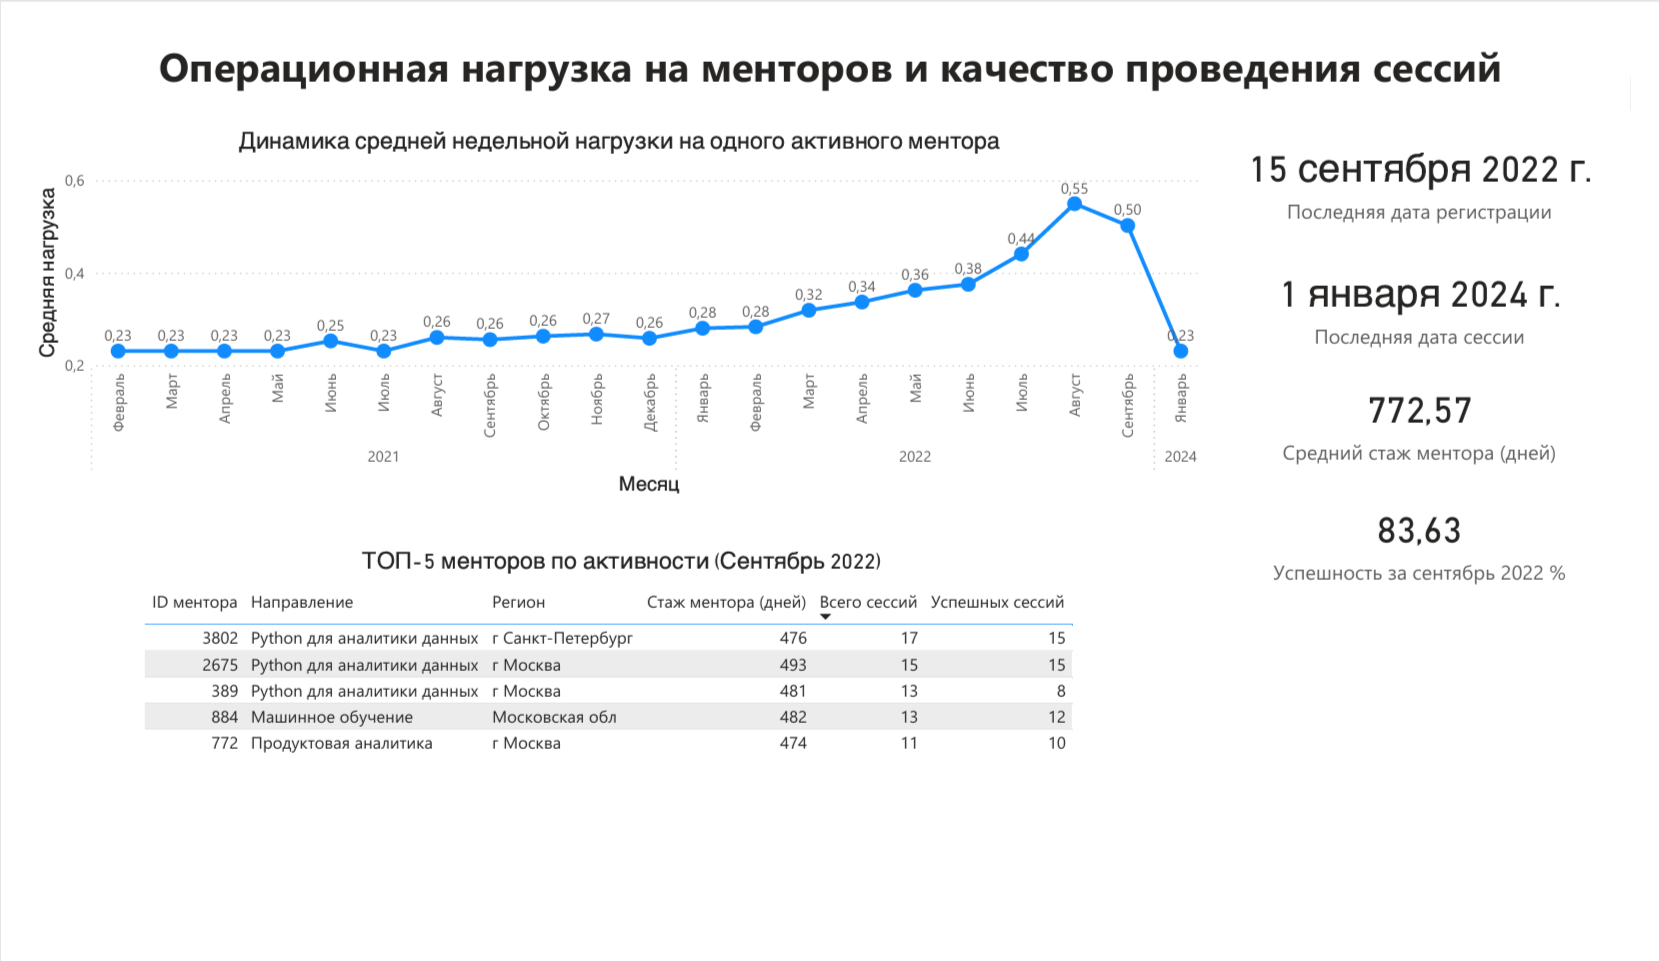

The page's visual inventory and layout, read from the dashboard file:
{"tool":"powerbi","page":{"name":"Операционная нагрузка и качество ","canvas":[1280,720],"ordinal":2},"visuals":[{"type":"lineChart","title":"Динамика средней недельной нагрузки на одного активного ментора","fields":{"Category":["sessions.session_date_time.Изменение.Иерархия дат.Год","sessions.session_date_time.Изменение.Иерархия дат.Месяц"],"Y":["sessions.Средняя нагрузка в неделю"]},"box":[0,74.8,942.2,301.6],"z":0},{"type":"textbox","box":[0,0,1280.3,63.9],"z":1000},{"type":"tableEx","title":"ТОП-5 менторов по активности (Сентябрь 2022)","fields":{"Values":["sessions.mentor_id","domain.name","region.name","users.Стаж ментора (дней)","sessions.session_id","sessions.Успешных сессий"]},"box":[85.7,411.4,773.3,191.8],"z":2000},{"type":"card","fields":{"Values":["users.Последняя дата регистрации"]},"box":[941.9,63.9,338.4,109.2],"z":3000},{"type":"card","fields":{"Values":["sessions.Последняя дата сессии"]},"box":[941.9,173.2,338.4,90.6],"z":4000},{"type":"card","fields":{"Values":["users.Средний стаж ментора"]},"box":[941.9,263.8,338.4,95.9],"z":5000},{"type":"card","fields":{"Values":["sessions.Успешность за сентябрь 2022 %"]},"box":[941.9,359.7,338.4,95.9],"z":6000}]}

Visuals, with their boxes in screenshot pixels (x1, y1, x2, y2), scaled from the page's 1280x720 canvas onto the 1659x961 screenshot:
"Динамика средней недельной нагрузки на одного активного ментора" lineChart: (left=0, top=100, right=1221, bottom=502)
textbox: (left=0, top=0, right=1658, bottom=85)
"ТОП-5 менторов по активности (Сентябрь 2022)" tableEx: (left=111, top=549, right=1113, bottom=805)
card - users.Последняя дата регистрации: (left=1221, top=85, right=1658, bottom=231)
card - sessions.Последняя дата сессии: (left=1221, top=231, right=1658, bottom=352)
card - users.Средний стаж ментора: (left=1221, top=352, right=1658, bottom=480)
card - sessions.Успешность за сентябрь 2022 %: (left=1221, top=480, right=1658, bottom=608)
